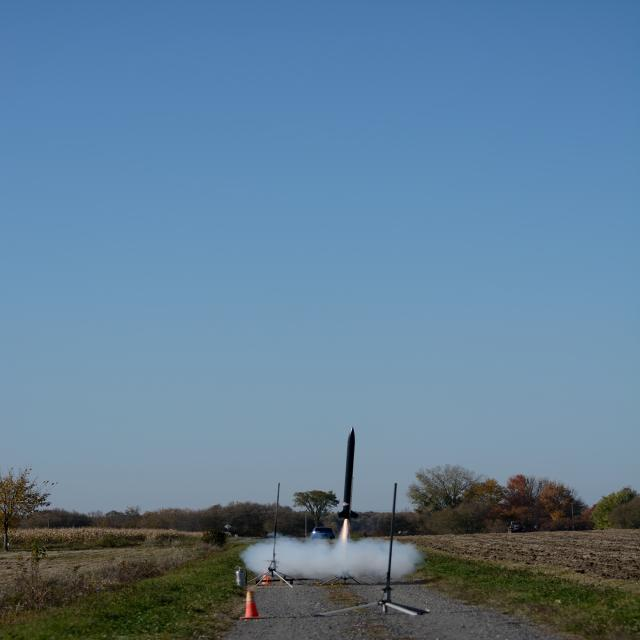Rocket: (338, 426, 360, 520)
